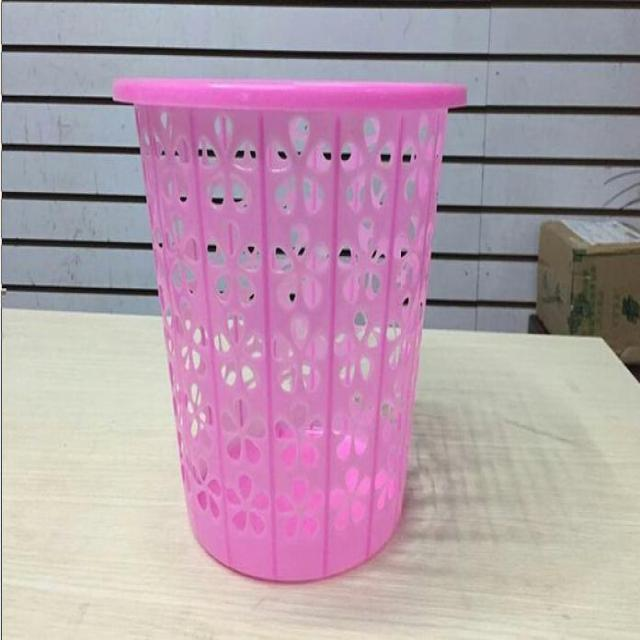dustbin: (110, 68, 471, 588)
